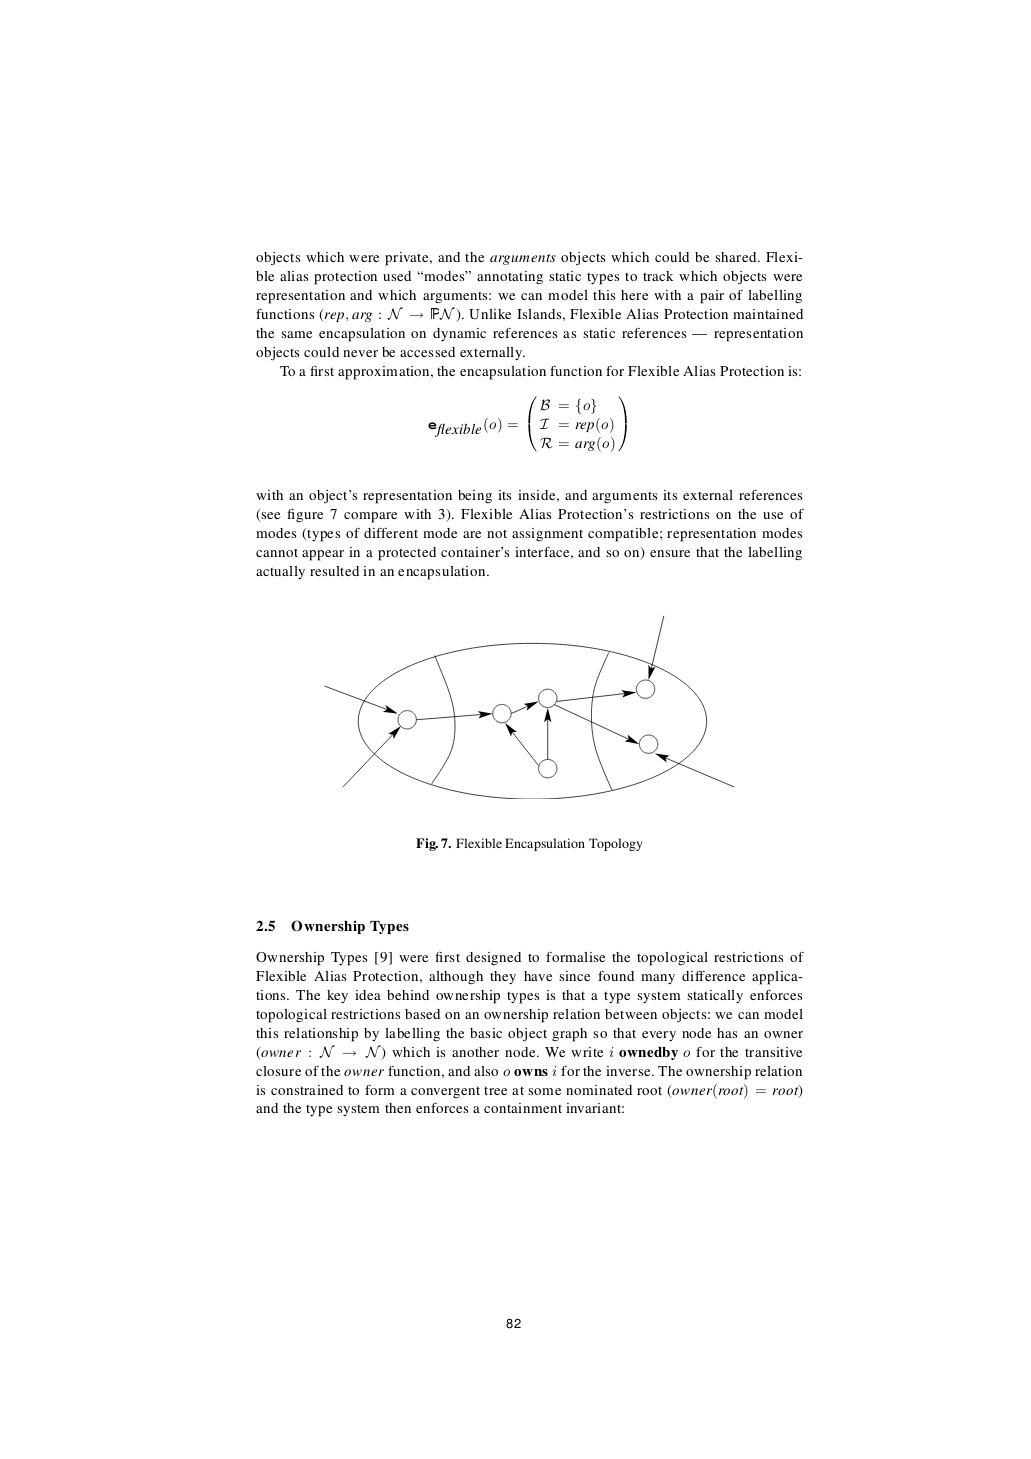figure: (324, 613, 734, 799)
formula: (428, 395, 626, 452)
